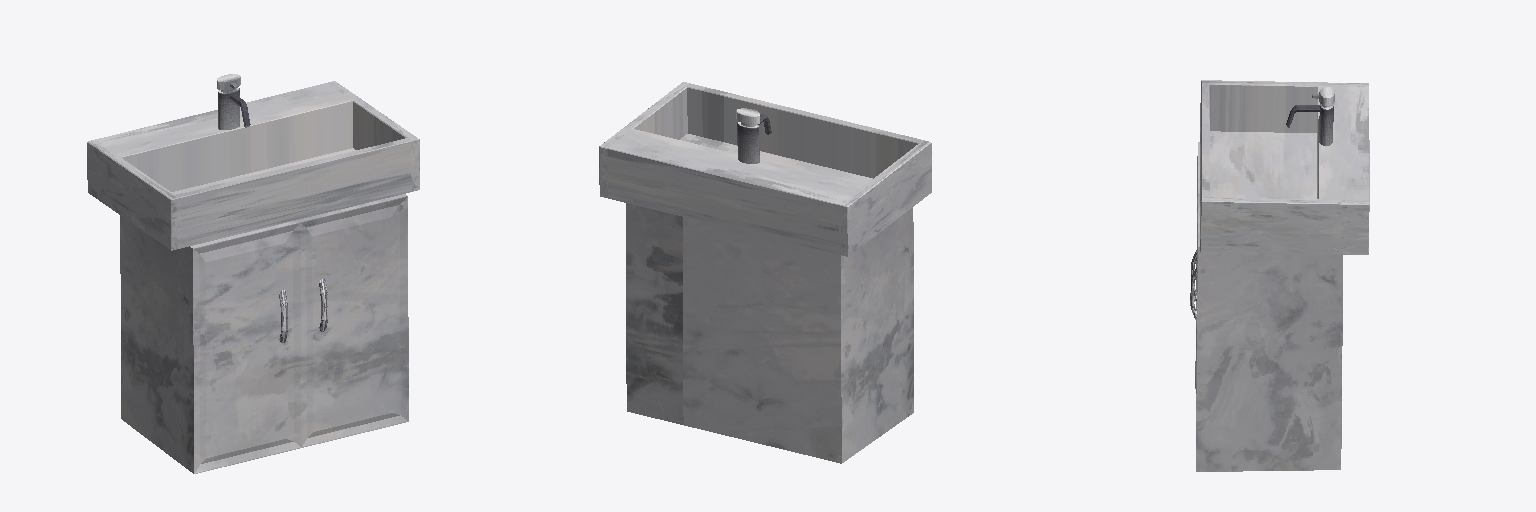
The picture shows the model from 3 angles: view 1: azimuth 30°, elevation 25°; view 2: azimuth 150°, elevation 25°; view 3: azimuth 270°, elevation 25°; orthographic projection.
Visible parts, largest first — view 1: sink_bathroom_small_002_Cube_001_Material_003_0_004, Cube_001_Material_004_0_004; view 2: sink_bathroom_small_002_Cube_001_Material_003_0_004, Cube_001_Material_004_0_004; view 3: sink_bathroom_small_002_Cube_001_Material_003_0_004, Cube_001_Material_004_0_004.
Part boxes in pixels (bbox=[...]): sink_bathroom_small_002_Cube_001_Material_003_0_004: bbox=[87, 81, 419, 473]; Cube_001_Material_004_0_004: bbox=[217, 74, 327, 342]; sink_bathroom_small_002_Cube_001_Material_003_0_004: bbox=[599, 82, 931, 463]; Cube_001_Material_004_0_004: bbox=[736, 108, 771, 163]; sink_bathroom_small_002_Cube_001_Material_003_0_004: bbox=[1195, 80, 1369, 471]; Cube_001_Material_004_0_004: bbox=[1190, 87, 1334, 319].
Size of the model in its own units: 0.618 by 0.7687 by 0.3855.
2 materials, 2 textured.